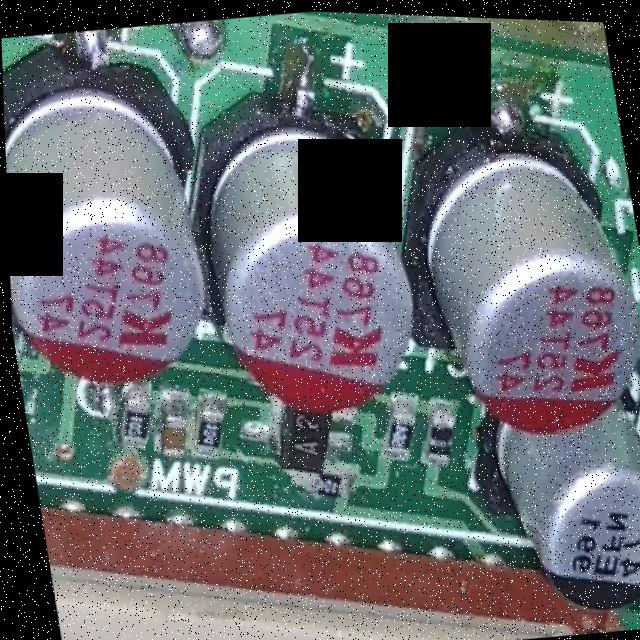4439: (230, 377, 364, 491)
capacitor 1V5: (185, 98, 426, 425), (405, 119, 640, 445), (2, 64, 223, 397), (484, 404, 640, 625), (150, 401, 187, 459)
resistor IR1: (372, 401, 416, 458), (186, 406, 224, 460), (298, 465, 348, 503), (114, 397, 148, 447)
